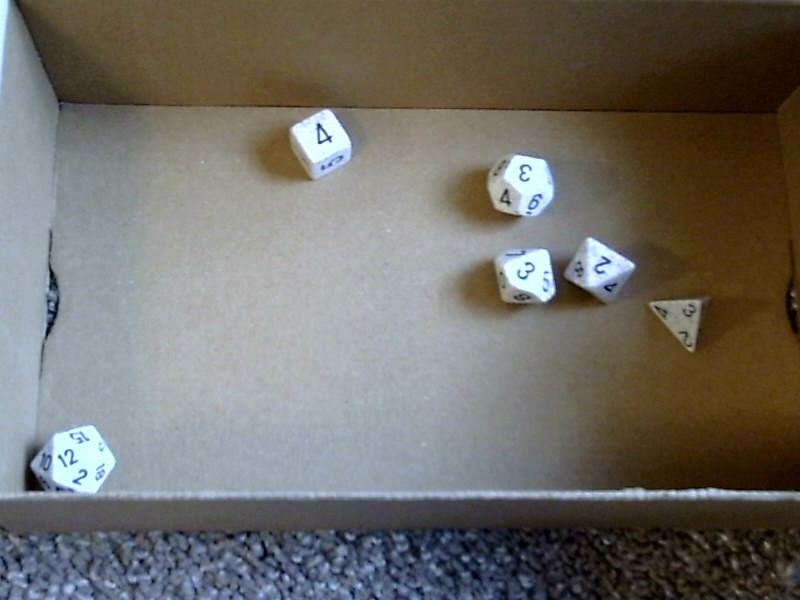d10 3: (483, 241, 558, 316)
d12 3: (475, 144, 558, 222)
d20 12: (16, 415, 128, 505)
d4 3: (645, 292, 720, 368)
d6 4: (274, 99, 360, 193)
d8 2: (560, 231, 638, 310)
